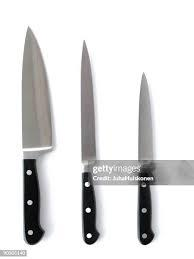Knife: (21, 25, 53, 244), (80, 39, 99, 244), (137, 71, 154, 245)
